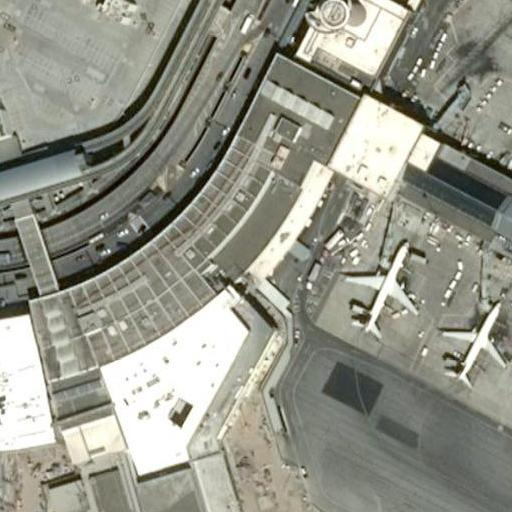Aircraft: (334, 227, 408, 336), (438, 285, 508, 384)
